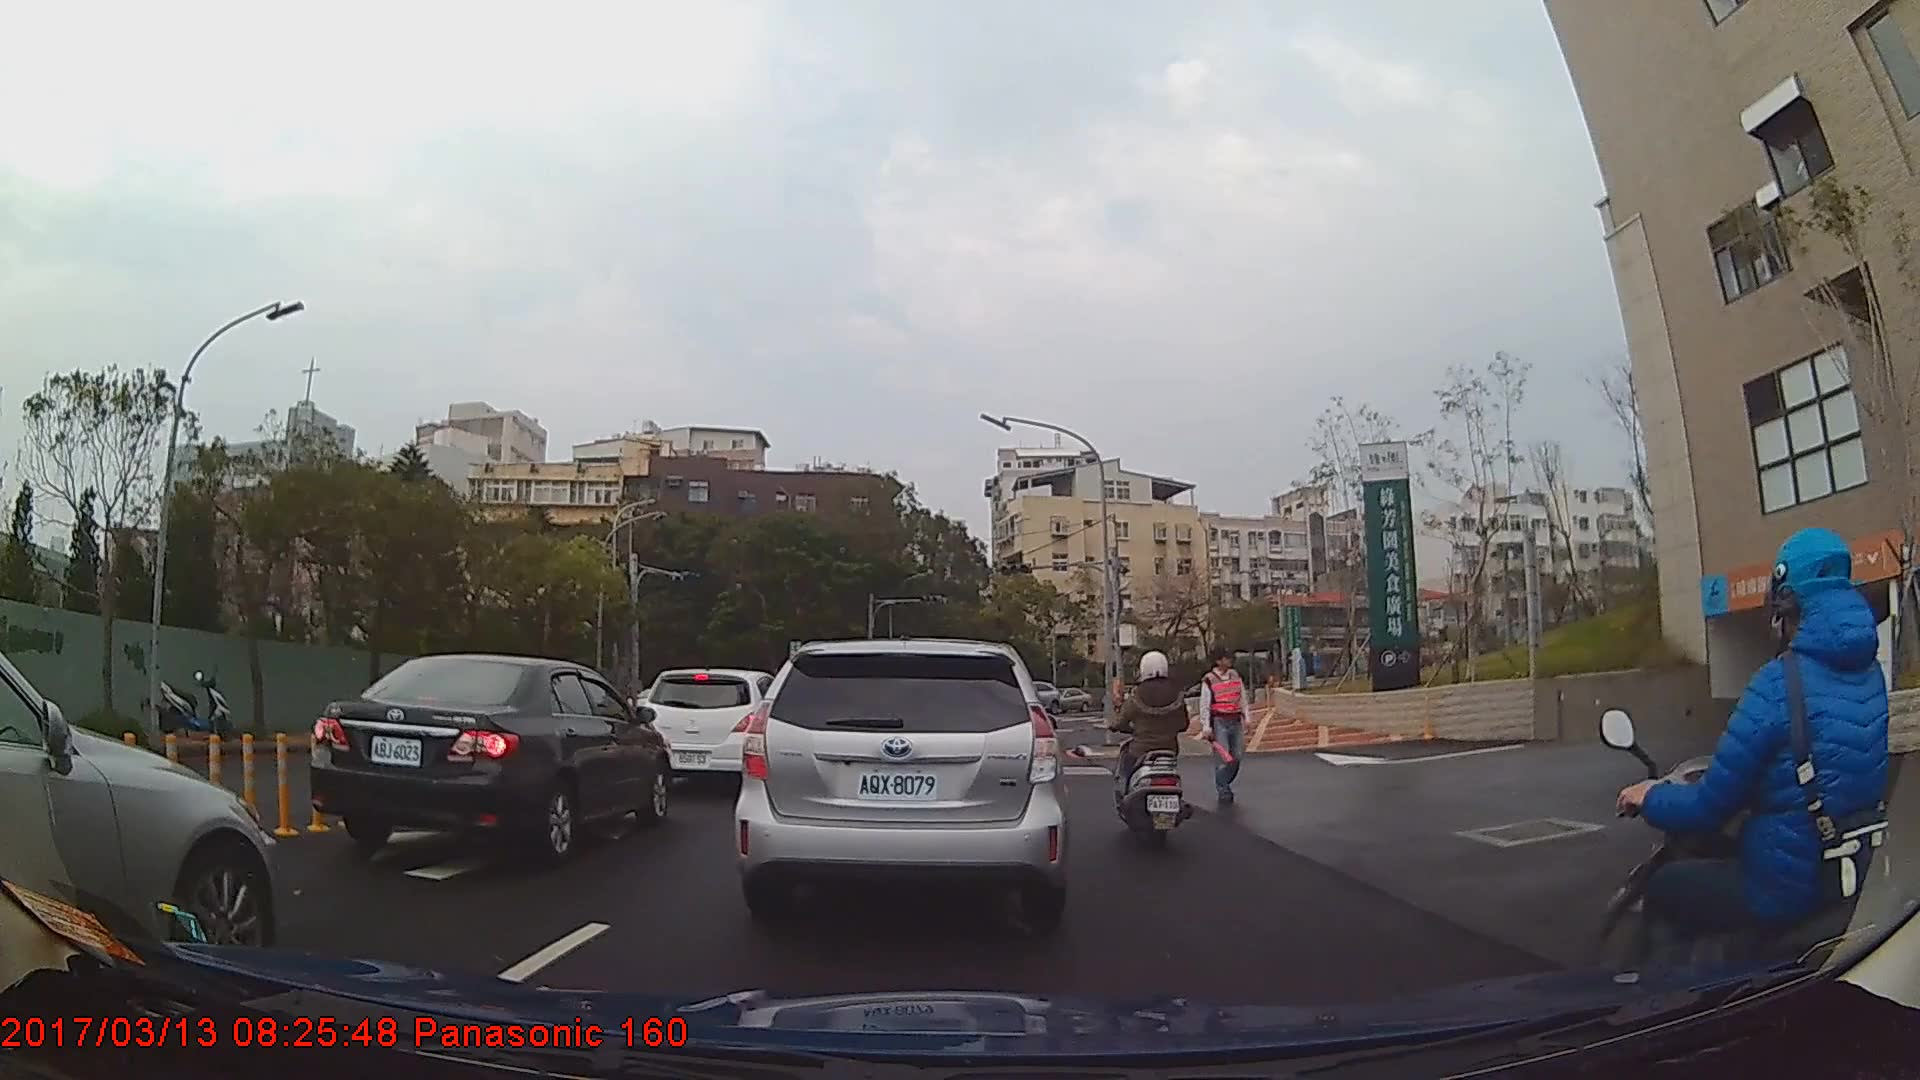pedestrian: (1200, 646, 1254, 802)
rider: (1584, 526, 1920, 1080), (1113, 650, 1194, 851)
vehicle: (732, 635, 1068, 928), (0, 646, 276, 977), (308, 652, 672, 859), (639, 667, 788, 791), (1053, 682, 1093, 711)
